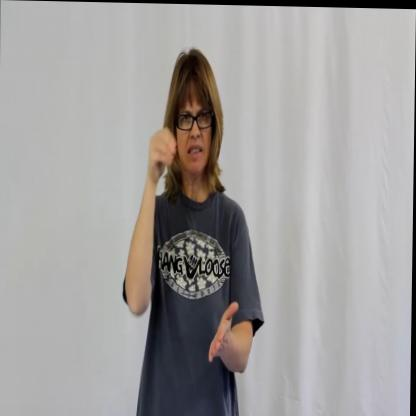Expensive: (123, 45, 269, 416)
